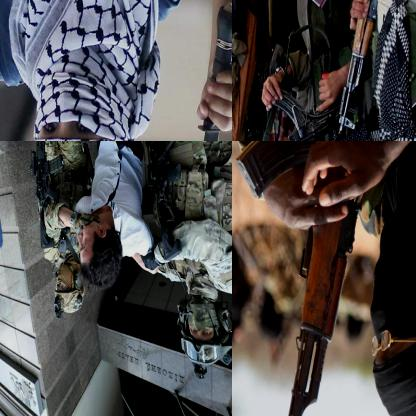knife: (183, 2, 231, 140)
rifle: (236, 141, 377, 415), (304, 0, 392, 140), (137, 141, 189, 262), (232, 89, 349, 140), (24, 141, 67, 253)
